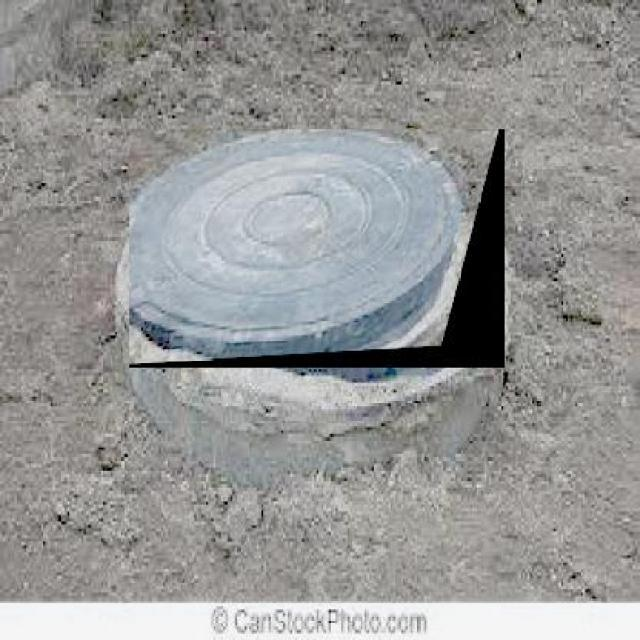Manhole: (130, 129, 504, 368)
